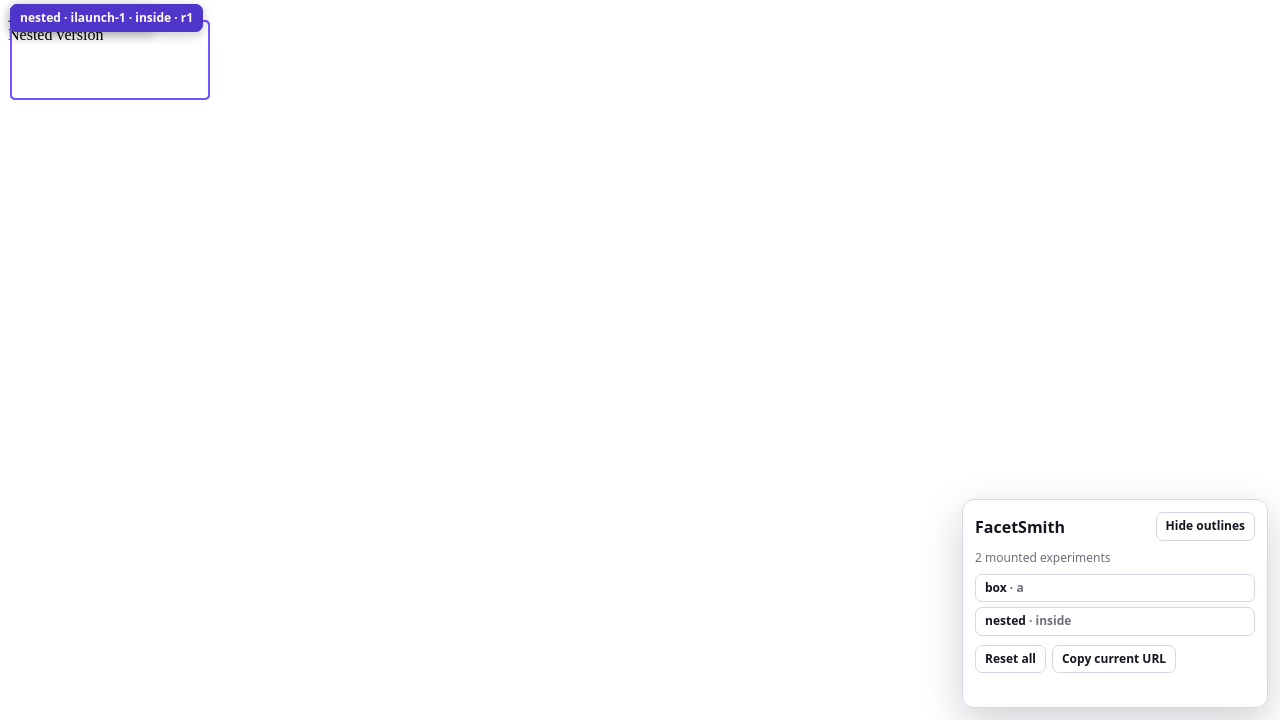
Scenario: inspector › switches and resets a variant
The image size is (1280, 720).
Click the button "box · a": (996, 587) 975,574 -> 1255,602
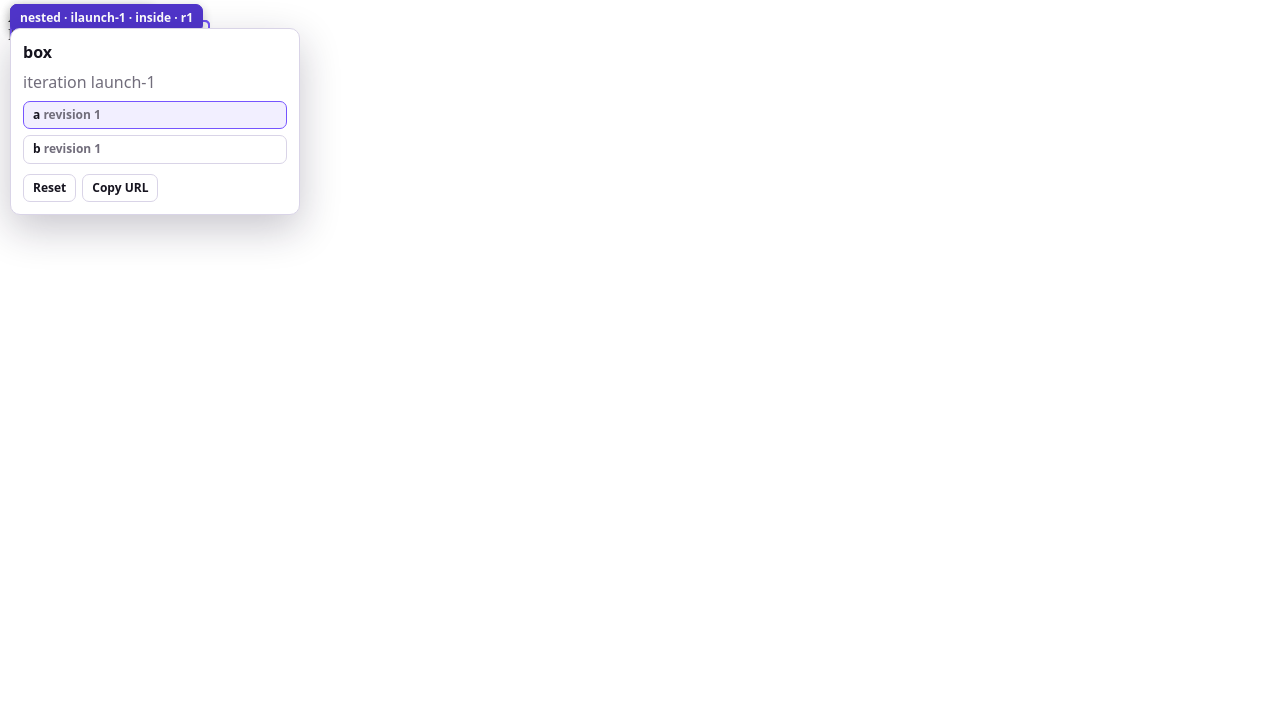
Click the button "b revision 1": (69, 149) 23,135 -> 287,164
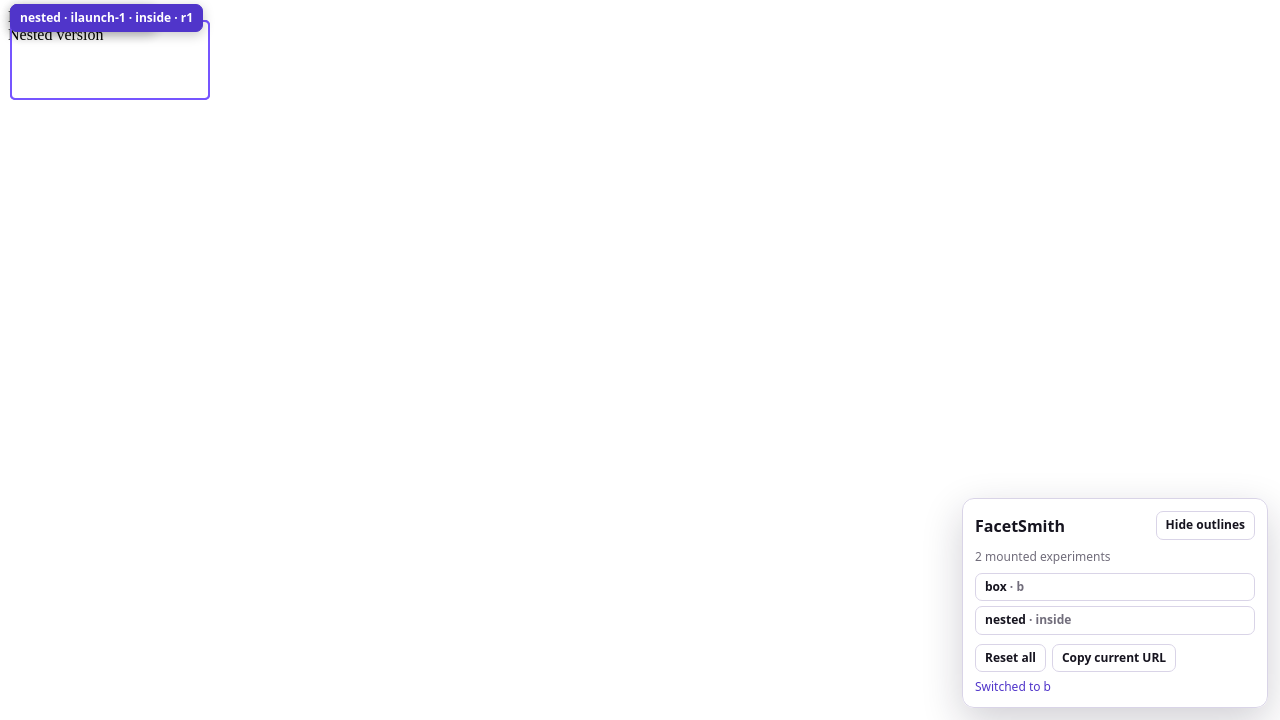
Expected: the text "B version" is shown, 8,8 -> 70,25
Click the button "box · b": (996, 586) 975,573 -> 1255,601
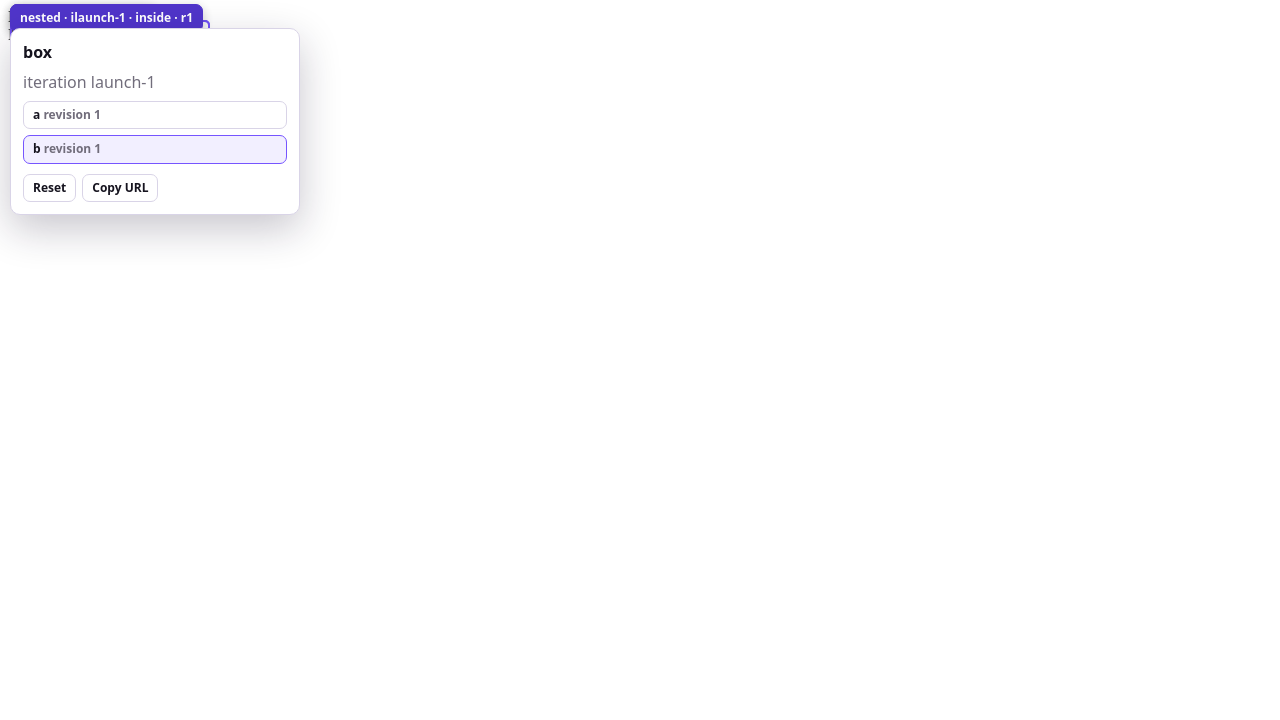
Click the button "Reset": (50, 188) 23,174 -> 76,202
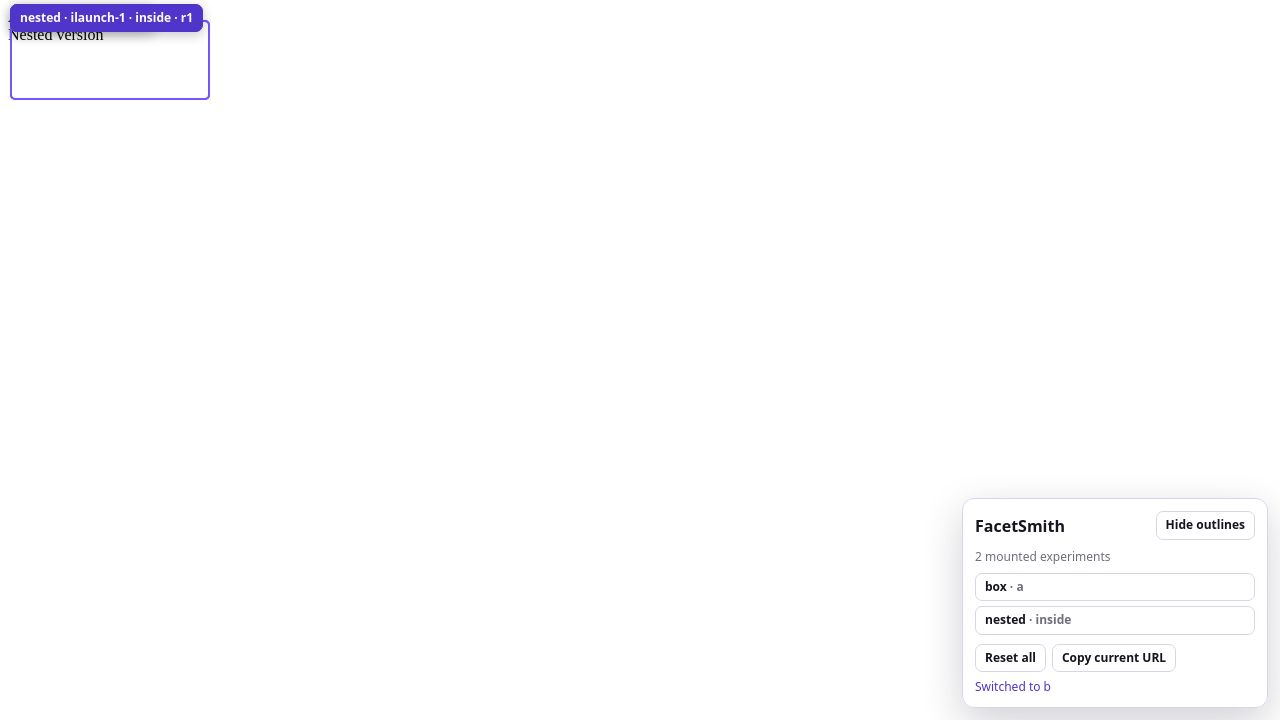
Expected: the text "A version" is shown, 8,8 -> 70,25
